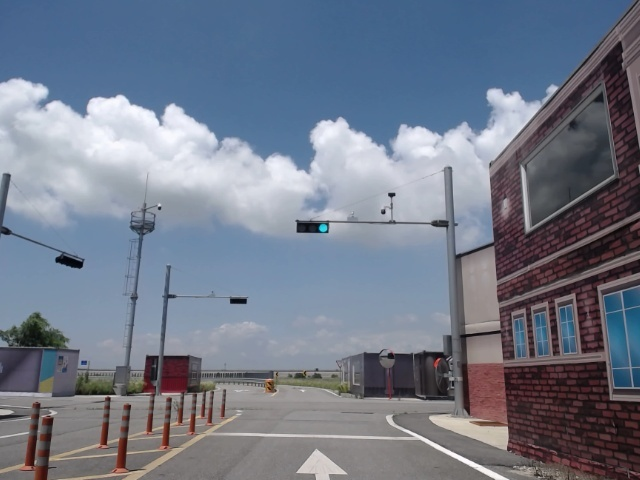green_3: (297, 223, 328, 233)
